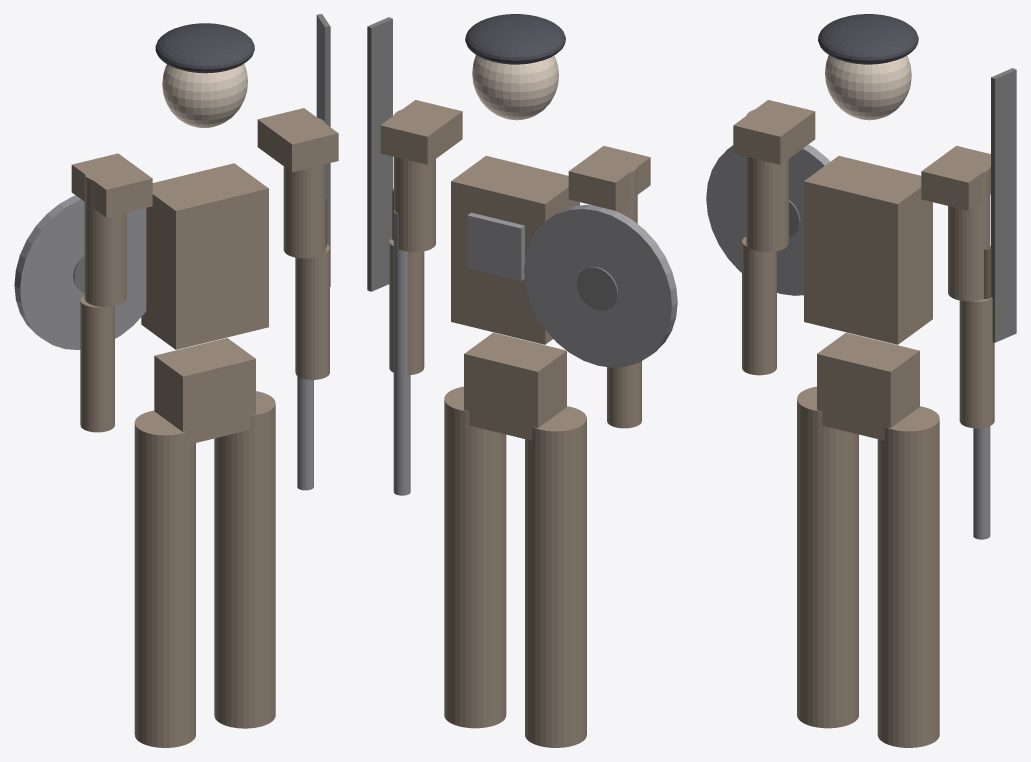
File: 光明右使_粗模.glb
3 views of the same model, side by side, from view 1: azimuth 30°, elevation 25°; view 2: azimuth 150°, elevation 25°; view 3: azimuth 330°, elevation 25° (orthographic).
Parts seen in each view (by area): view 1: 光明右使_Torso, 光明右使_Leg.001, 光明右使_Leg, 光明右使_Shield, 光明右使_Waist, 光明右使_ArmUpper.001, 光明右使_ArmLower.001, 光明右使_ArmUpper, 光明右使_ArmLower, 光明右使_Head, 光明右使_Hair, 光明右使_ShoulderPlate (+3 smaller); view 2: 光明右使_Leg.001, 光明右使_Leg, 光明右使_Shield, 光明右使_Torso, 光明右使_Waist, 光明右使_Blade, 光明右使_ArmUpper, 光明右使_Head, 光明右使_Scabbard, 光明右使_Hair, 光明右使_ShoulderPlate, 光明右使_ChestPlate (+5 smaller); view 3: 光明右使_Torso, 光明右使_Leg, 光明右使_Leg.001, 光明右使_Waist, 光明右使_Blade, 光明右使_Shield, 光明右使_ArmUpper, 光明右使_ArmUpper.001, 光明右使_ArmLower, 光明右使_ArmLower.001, 光明右使_Head, 光明右使_Hair (+3 smaller).
Part boxes in pixels (x1,y1,x2,y2): 光明右使_Torso: (141,163,268,349); 光明右使_Leg.001: (134,410,195,747); 光明右使_Leg: (214,391,275,728); 光明右使_Shield: (14,195,146,349); 光明右使_Waist: (154,338,255,444); 光明右使_ArmUpper.001: (84,164,126,306); 光明右使_ArmLower.001: (80,295,114,432); 光明右使_ArmUpper: (283,115,325,258); 光明右使_ArmLower: (295,244,329,379); 光明右使_Head: (162,64,247,127); 光明右使_Hair: (155,23,254,73); 光明右使_ShoulderPlate: (257,108,338,172); 光明右使_Leg.001: (525,406,586,747); 光明右使_Leg: (444,386,506,728); 光明右使_Shield: (524,204,677,367); 光明右使_Torso: (451,155,579,344); 光明右使_Waist: (464,332,566,440); 光明右使_Blade: (367,17,392,291); 光明右使_ArmUpper: (393,107,435,252); 光明右使_Head: (472,55,558,120); 光明右使_Scabbard: (393,210,410,495); 光明右使_Hair: (465,14,565,64); 光明右使_ShoulderPlate: (380,100,462,164); 光明右使_ChestPlate: (467,212,524,280); 光明右使_Torso: (804,156,932,344); 光明右使_Leg: (877,406,939,747); 光明右使_Leg.001: (797,386,858,728); 光明右使_Waist: (817,332,919,440); 光明右使_Blade: (991,68,1016,342); 光明右使_Shield: (706,144,830,295); 光明右使_ArmUpper: (948,157,990,301); 光明右使_ArmUpper.001: (746,107,788,252); 光明右使_ArmLower: (959,297,994,428); 光明右使_ArmLower.001: (742,237,776,375); 光明右使_Head: (825,55,911,120); 光明右使_Hair: (818,14,918,64).
Bounding box in the file's own units: 0.9172 × 1.99 × 0.26.
